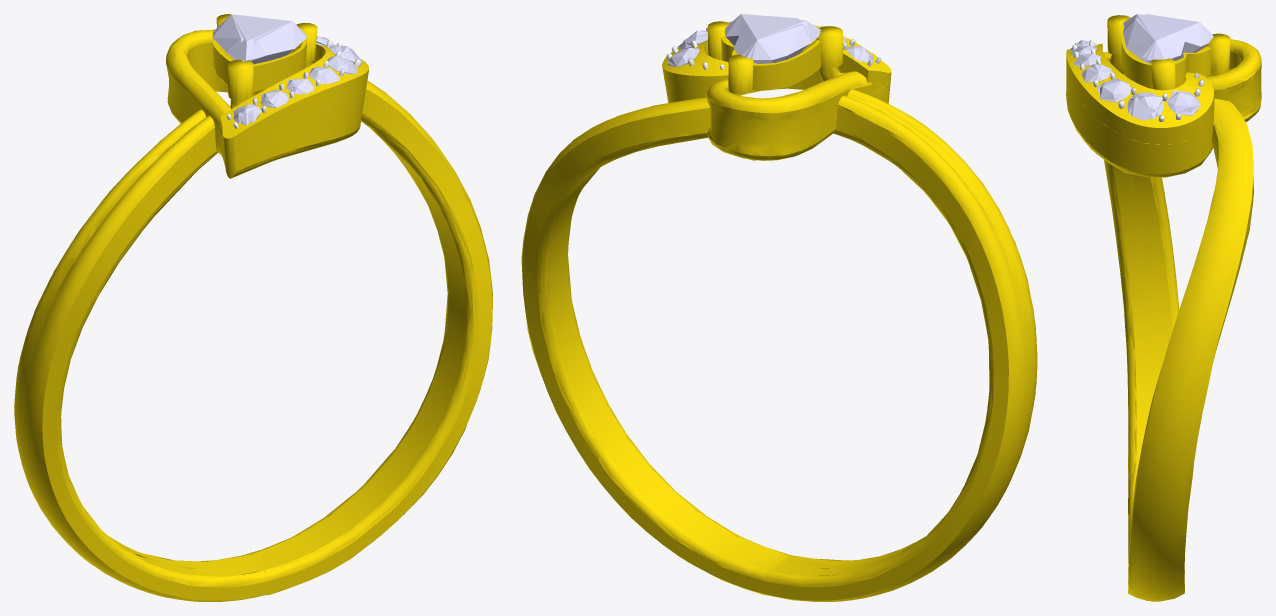
Rendered from DLR-D000675664.glb.
3 views of the same model, side by side, from view 1: azimuth 30°, elevation 25°; view 2: azimuth 150°, elevation 25°; view 3: azimuth 270°, elevation 25° (orthographic). The views are drawn at different scales.
Parts seen in each view (by area): view 1: highPolyMesh, lowPolyMesh; view 2: highPolyMesh, lowPolyMesh; view 3: highPolyMesh, lowPolyMesh.
Part boxes in pixels (bbox=[...]): highPolyMesh: bbox=[14, 14, 492, 601]; lowPolyMesh: bbox=[14, 14, 492, 601]; highPolyMesh: bbox=[522, 14, 1037, 601]; lowPolyMesh: bbox=[521, 14, 1037, 601]; highPolyMesh: bbox=[1066, 14, 1261, 601]; lowPolyMesh: bbox=[1066, 14, 1261, 601].
Bounding box in the file's own units: 0.0196 × 0.0219 × 0.00702.
